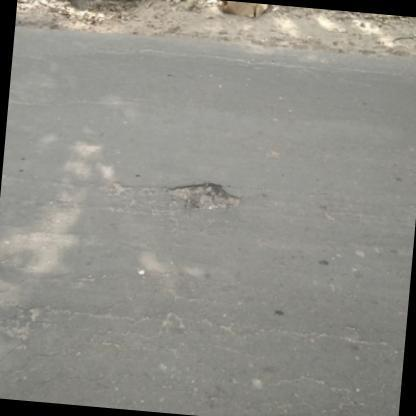pothole: (172, 178, 238, 214)
